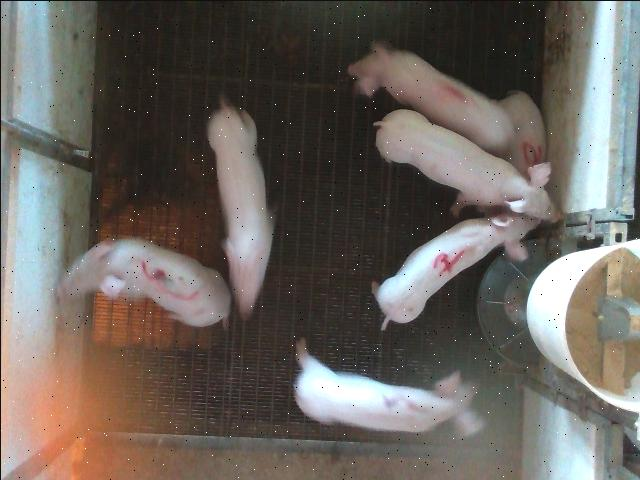pig-1: (348, 41, 512, 154)
pig-2: (294, 338, 484, 434)
pig-3: (58, 238, 230, 326)
pig-4: (371, 212, 539, 328)
pig-5: (499, 90, 544, 174)
